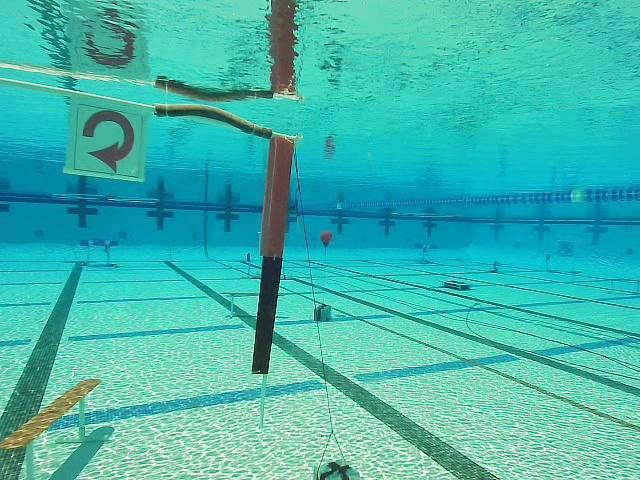buoy: (320, 230, 333, 251)
dropper: (442, 279, 470, 293)
gate_leg_r: (251, 132, 294, 377)
gate_red: (66, 98, 147, 182)
table: (80, 238, 118, 269), (411, 240, 441, 265)
torpedo: (556, 239, 574, 259)
